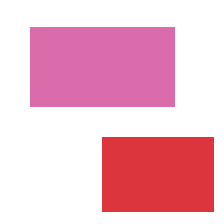rectangle: (30, 27, 174, 106), (102, 137, 213, 211)
